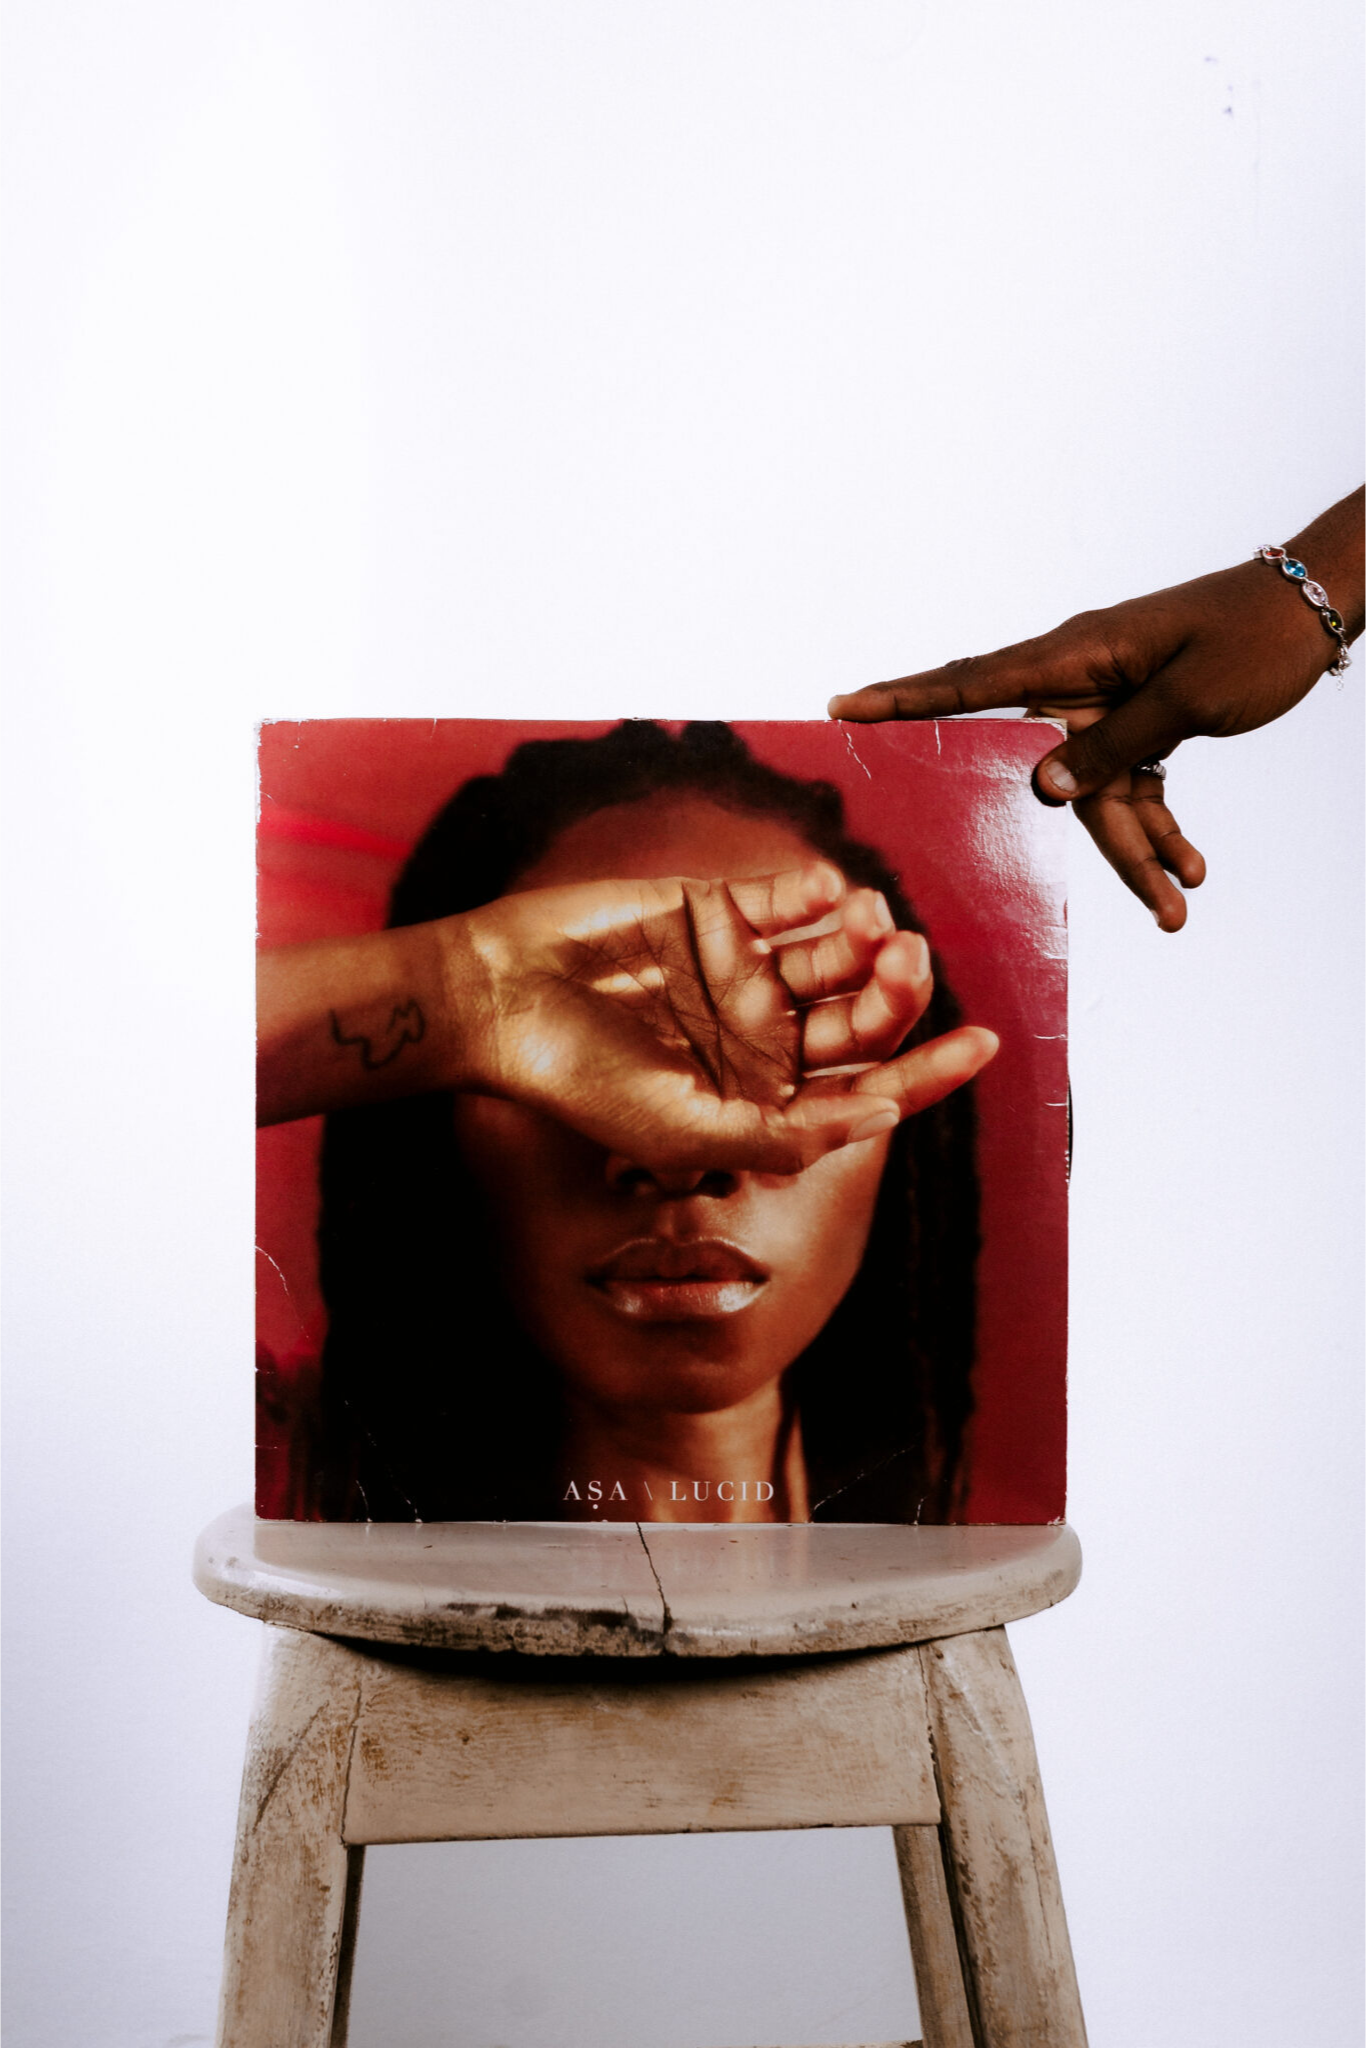asa_lucid: (245, 709, 1081, 1534)
